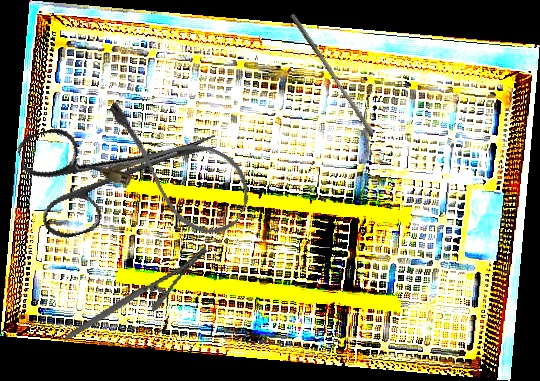Cannula: (78, 96, 263, 246)
Iris Scissors: (14, 86, 231, 245)
Needle Holder: (52, 245, 220, 341)
Pusher: (285, 13, 379, 136)
